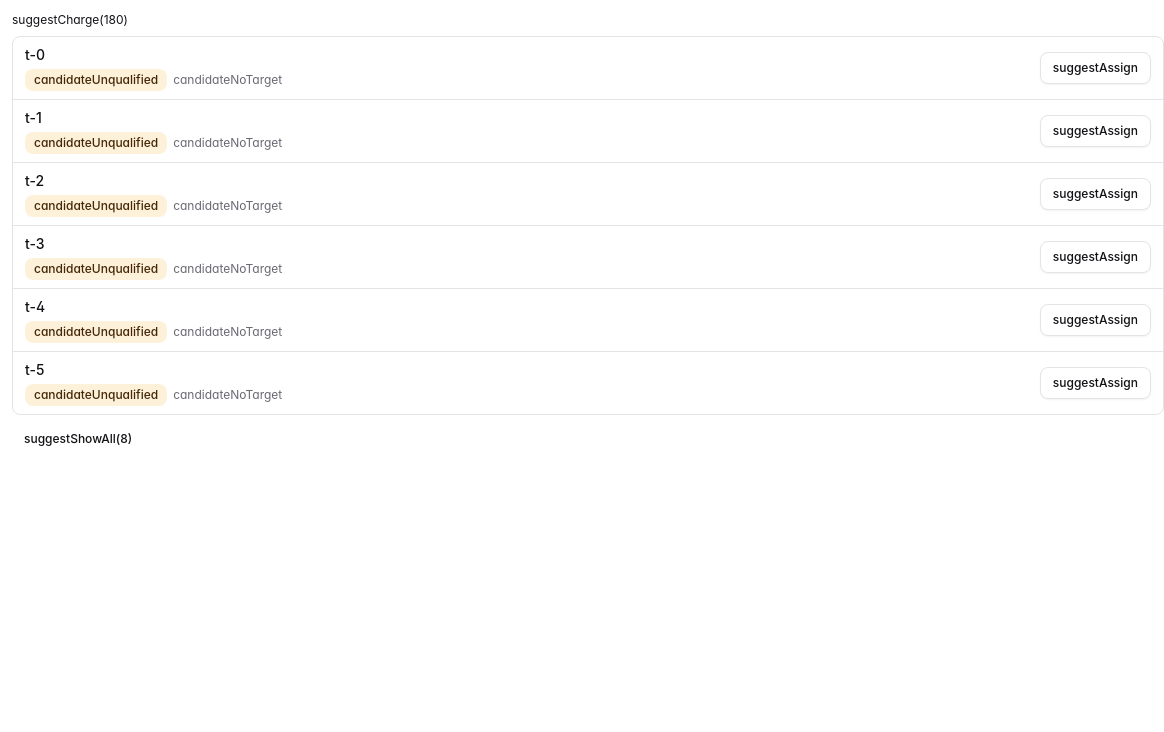
Test: TeacherSuggestions › shows the first six and the rest on request
This screenshot has width=1164, height=732.
Check: the number of list items is 6, box [13,37,1163,99]; [13,99,1163,162]; [13,162,1163,225]; [13,225,1163,288]; [13,288,1163,351]; [13,351,1163,414]
Click the button "suggestShowAll(8)".
click(78, 439)  # box [12,423,144,455]
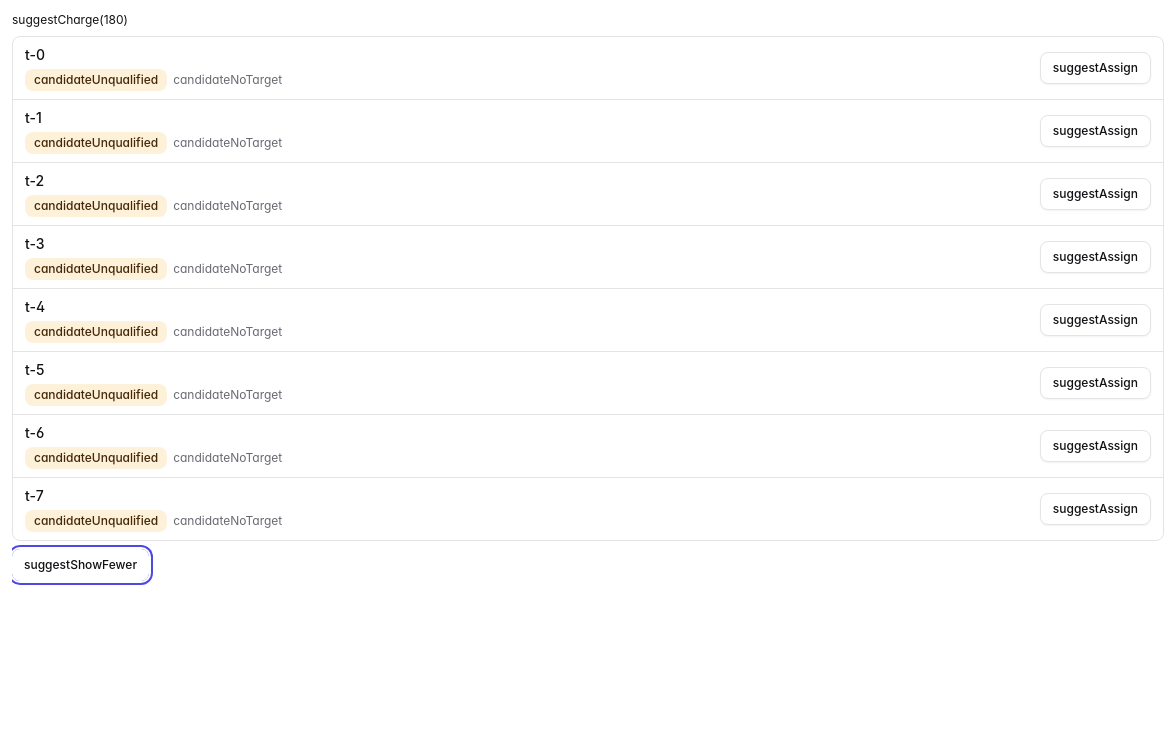
Check: the number of list items is 8
